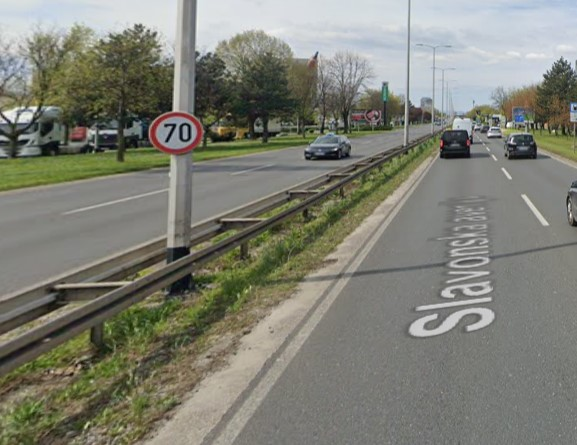Ograničenje brzine 70: (148, 111, 203, 155)
